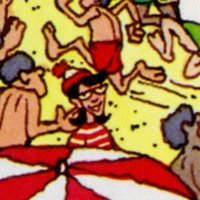wenda: (73, 70, 109, 125)
